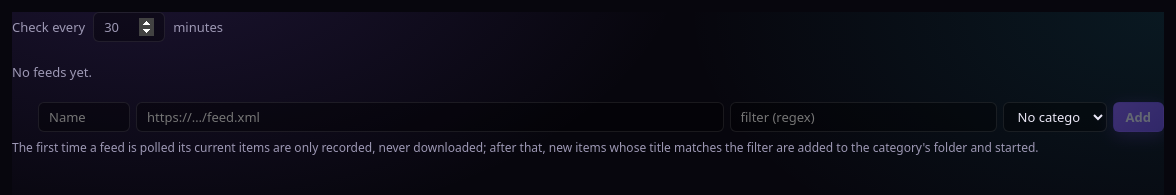
Test: rss editor › refuses a non-http address and a broken filter, and only then enables Add
Type "f" into the field named "New feed name" at [84, 117], box [38,102,130,132]
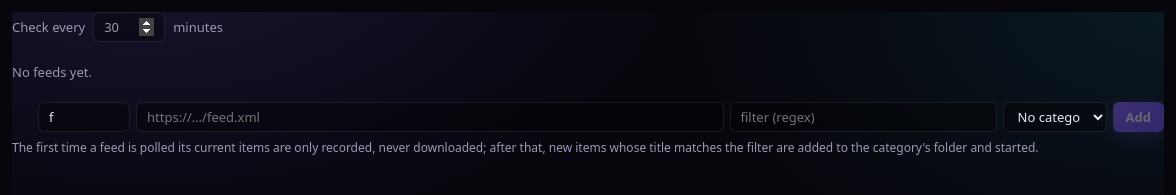
Type "ftp://x.example/feed" into the field named "New feed address" at [430, 117], box [136,102,724,132]
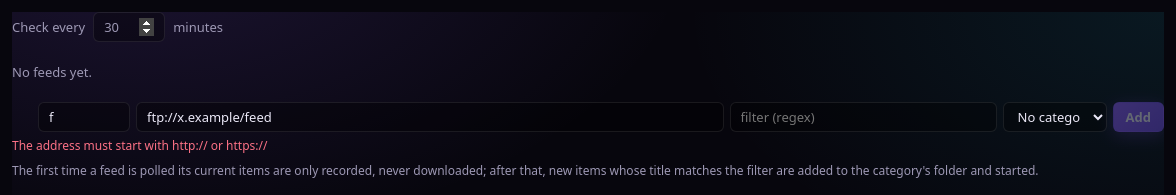
Check: the button "Add" is disabled, box [1113,102,1164,132]
Check: the message shows "http", box [12,137,267,154]
Replace the text in the field named "New feed address" with "https://x.example/feed" at [430, 117], box [136,102,724,132]
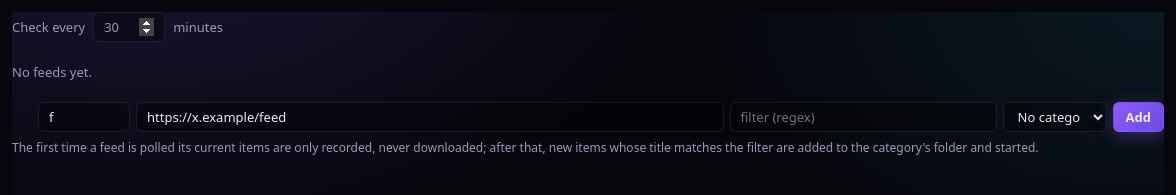
Type "(" into the field named "New feed filter" at [863, 117], box [730,102,997,132]
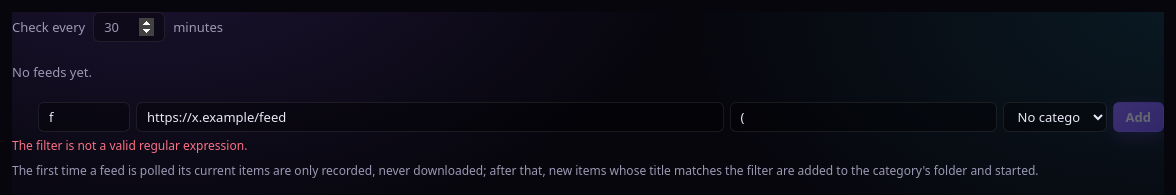
Check: the button "Add" is disabled, box [1113,102,1164,132]
Check: the message shows "regular expression", box [12,137,247,154]
Replace the text in the field named "New feed filter" with "ubuntu" at [863, 117], box [730,102,997,132]
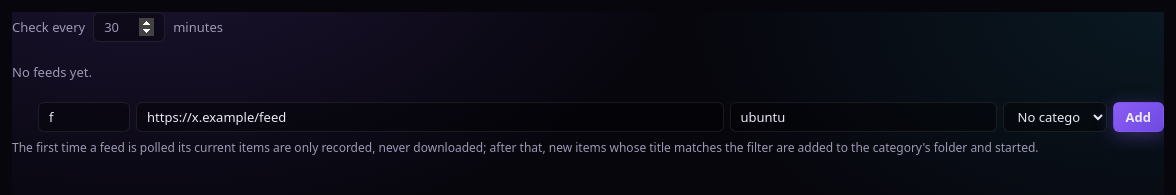
Check: the button "Add" is enabled, box [1113,102,1164,132]
